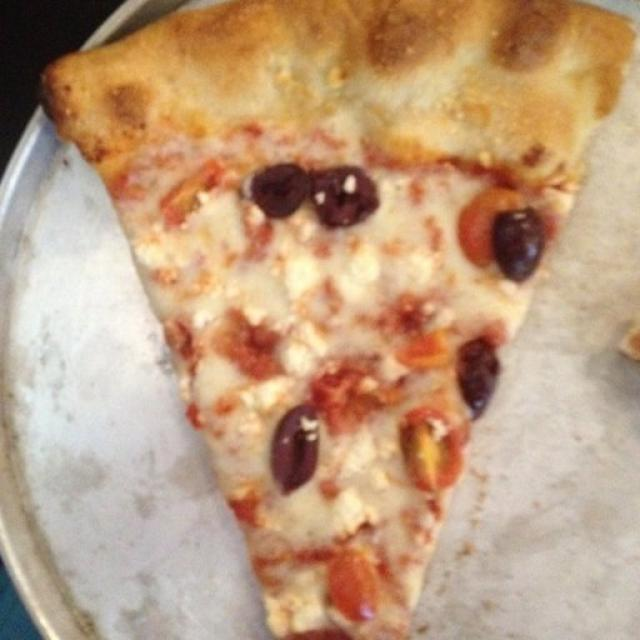Olives: (308, 165, 369, 225), (461, 341, 499, 416), (498, 208, 538, 279), (254, 160, 306, 214)
Pizza: (45, 0, 632, 640)
Tomato: (153, 156, 221, 234), (404, 399, 462, 489), (457, 182, 513, 273), (270, 399, 319, 489), (319, 362, 382, 431), (327, 549, 383, 620), (229, 316, 287, 376), (396, 331, 446, 373)
